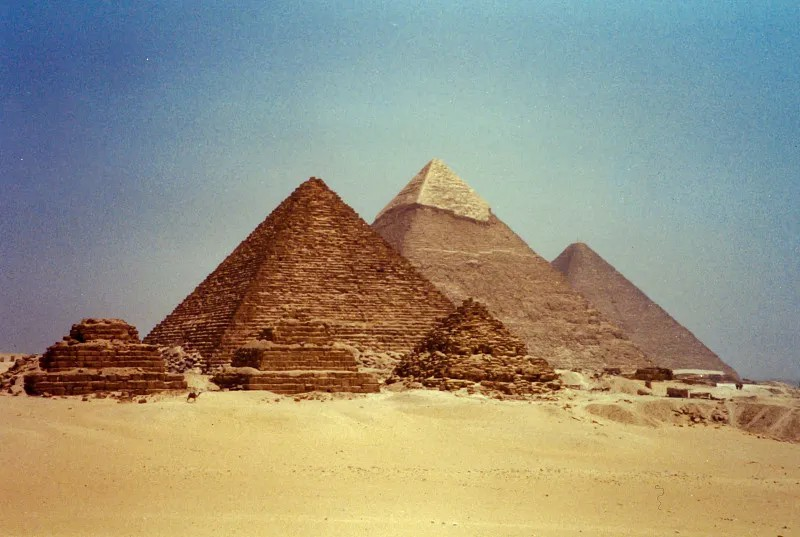Pyramid: (143, 176, 457, 385), (372, 160, 662, 379), (551, 243, 742, 379), (390, 295, 568, 396), (210, 316, 383, 396), (23, 317, 187, 394)
